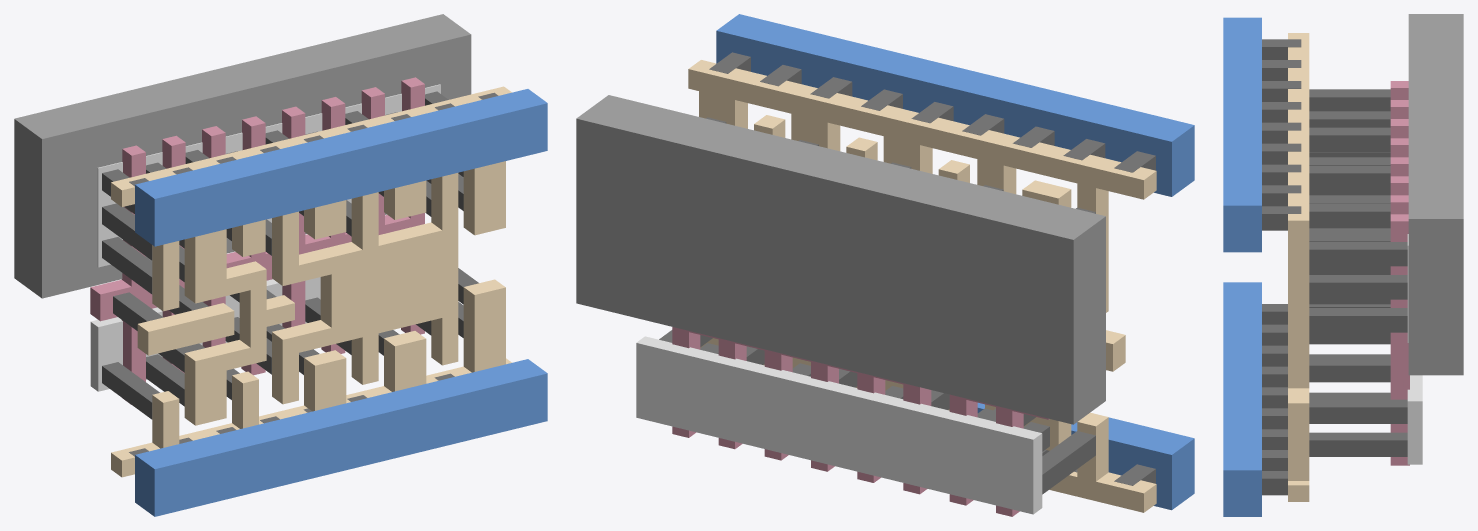
Rendered from sky130_fd_sc_hd__buf_6.gds.gltf.
3 views of the same model, side by side, from view 1: azimuth 30°, elevation 25°; view 2: azimuth 150°, elevation 25°; view 3: azimuth 270°, elevation 25° (orthographic). The views are drawn at different scales.
Visible parts, largest first — view 1: sky130_fd_sc_hd__buf_6_li1, sky130_fd_sc_hd__buf_6_met1, sky130_fd_sc_hd__buf_6_nwell, sky130_fd_sc_hd__buf_6_licon, sky130_fd_sc_hd__buf_6_poly, sky130_fd_sc_hd__buf_6_diff, sky130_fd_sc_hd__buf_6_mcon; view 2: sky130_fd_sc_hd__buf_6_nwell, sky130_fd_sc_hd__buf_6_diff, sky130_fd_sc_hd__buf_6_met1, sky130_fd_sc_hd__buf_6_li1, sky130_fd_sc_hd__buf_6_mcon, sky130_fd_sc_hd__buf_6_poly, sky130_fd_sc_hd__buf_6_licon; view 3: sky130_fd_sc_hd__buf_6_licon, sky130_fd_sc_hd__buf_6_nwell, sky130_fd_sc_hd__buf_6_met1, sky130_fd_sc_hd__buf_6_mcon, sky130_fd_sc_hd__buf_6_li1, sky130_fd_sc_hd__buf_6_poly, sky130_fd_sc_hd__buf_6_diff.
Boxes of the visible parts, left/top/right/bottom form: sky130_fd_sc_hd__buf_6_li1: left=111, top=86, right=511, bottom=477; sky130_fd_sc_hd__buf_6_met1: left=135, top=89, right=547, bottom=516; sky130_fd_sc_hd__buf_6_nwell: left=14, top=14, right=471, bottom=298; sky130_fd_sc_hd__buf_6_licon: left=102, top=91, right=478, bottom=419; sky130_fd_sc_hd__buf_6_poly: left=90, top=77, right=424, bottom=404; sky130_fd_sc_hd__buf_6_diff: left=90, top=84, right=440, bottom=391; sky130_fd_sc_hd__buf_6_mcon: left=129, top=92, right=498, bottom=456; sky130_fd_sc_hd__buf_6_nwell: left=576, top=95, right=1105, bottom=424; sky130_fd_sc_hd__buf_6_diff: left=636, top=336, right=1042, bottom=514; sky130_fd_sc_hd__buf_6_met1: left=716, top=14, right=1194, bottom=510; sky130_fd_sc_hd__buf_6_li1: left=688, top=60, right=1156, bottom=512; sky130_fd_sc_hd__buf_6_mcon: left=709, top=52, right=1155, bottom=485; sky130_fd_sc_hd__buf_6_poly: left=672, top=327, right=1049, bottom=516; sky130_fd_sc_hd__buf_6_licon: left=659, top=117, right=1095, bottom=494; sky130_fd_sc_hd__buf_6_licon: left=1309, top=89, right=1407, bottom=456; sky130_fd_sc_hd__buf_6_nwell: left=1408, top=14, right=1463, bottom=375; sky130_fd_sc_hd__buf_6_met1: left=1223, top=17, right=1261, bottom=516; sky130_fd_sc_hd__buf_6_mcon: left=1262, top=39, right=1301, bottom=495; sky130_fd_sc_hd__buf_6_li1: left=1288, top=33, right=1309, bottom=501; sky130_fd_sc_hd__buf_6_poly: left=1390, top=81, right=1409, bottom=465; sky130_fd_sc_hd__buf_6_diff: left=1407, top=234, right=1422, bottom=464.
Size of the model in its own units: 4.52 by 3.2 by 2.24.
